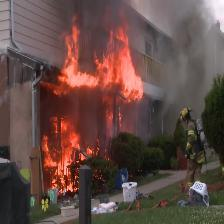fire: (33, 18, 155, 201)
smoke: (59, 2, 224, 80), (156, 3, 224, 174)
